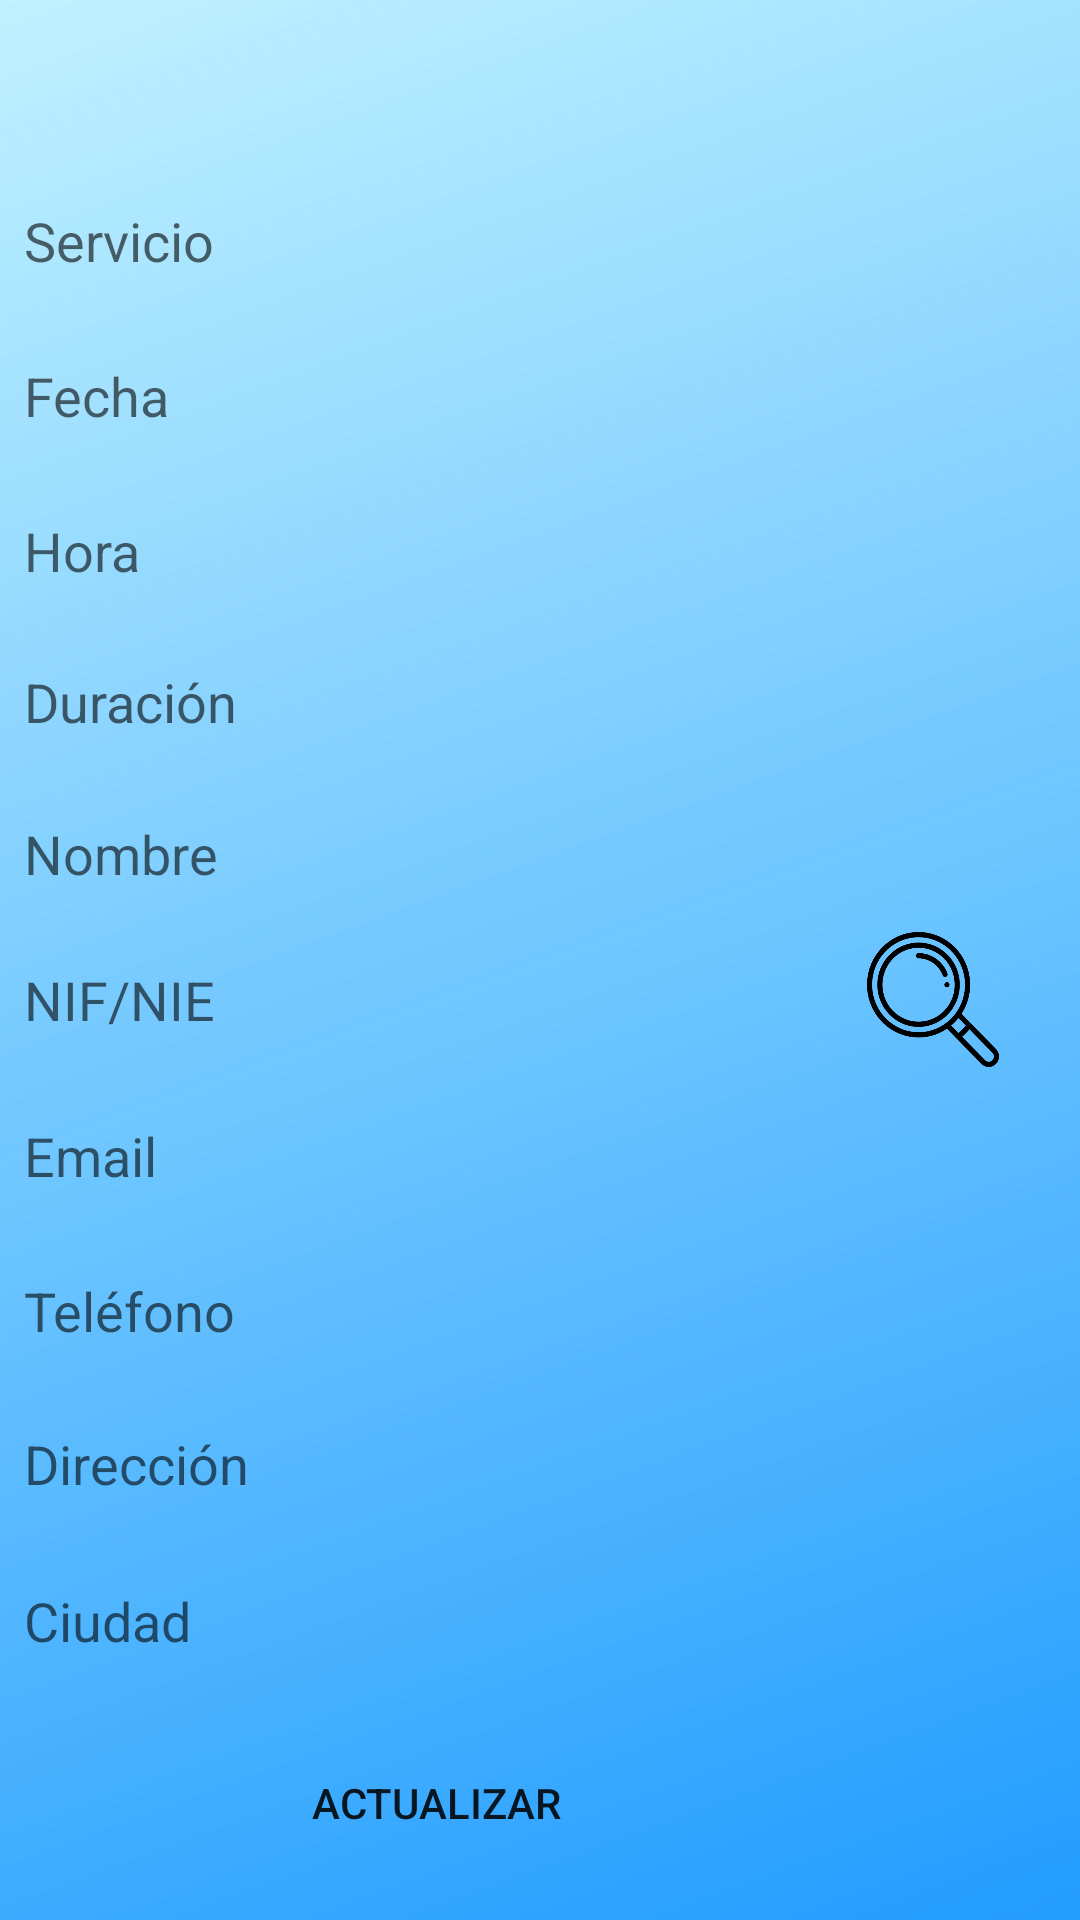

Point at icon controls on the screen. Image size 1080 × 1920, points as [x,y].
loupe: [933,999]
